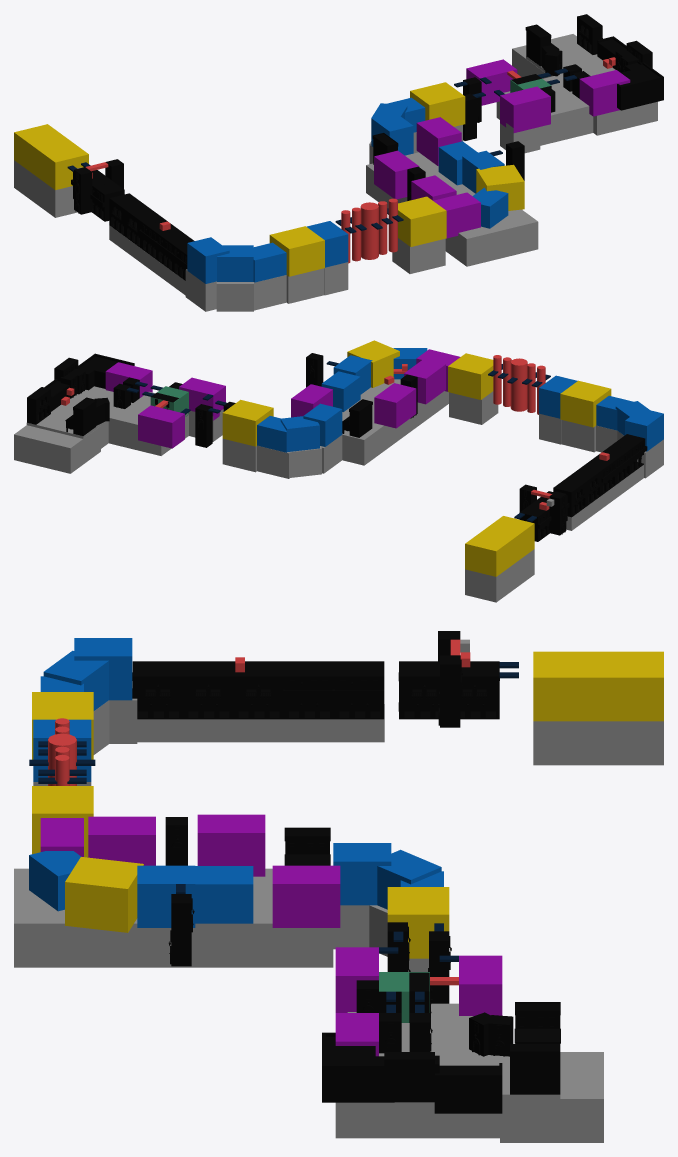
Rendered from lv2_whitebox.fbx.
The picture shows the model from 3 angles, top to bottom: view 1: azimuth 30°, elevation 25°; view 2: azimuth 150°, elevation 25°; view 3: azimuth 270°, elevation 25°; orthographic projection. The views are drawn at different scales.
Visible parts, largest first — view 1: _23x10x46_5__Floor_; view 2: _23x10x46_5__Floor_; view 3: _23x10x46_5__Floor_.
Boxes of the visible parts, bbox=[...] form: _23x10x46_5__Floor_: bbox=[14, 14, 663, 311]; _23x10x46_5__Floor_: bbox=[14, 340, 663, 602]; _23x10x46_5__Floor_: bbox=[14, 631, 663, 1142].
Bounding box in the file's own units: 420 × 58 × 269.
